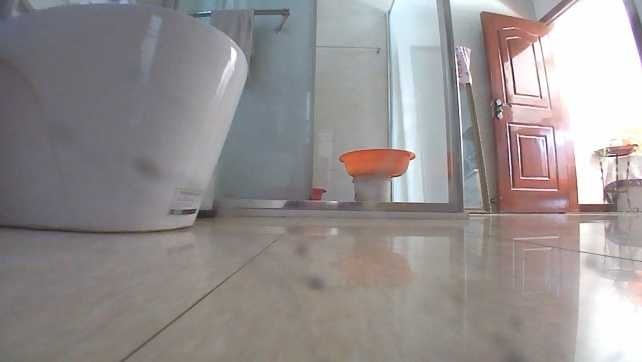toilet: (0, 0, 251, 236)
